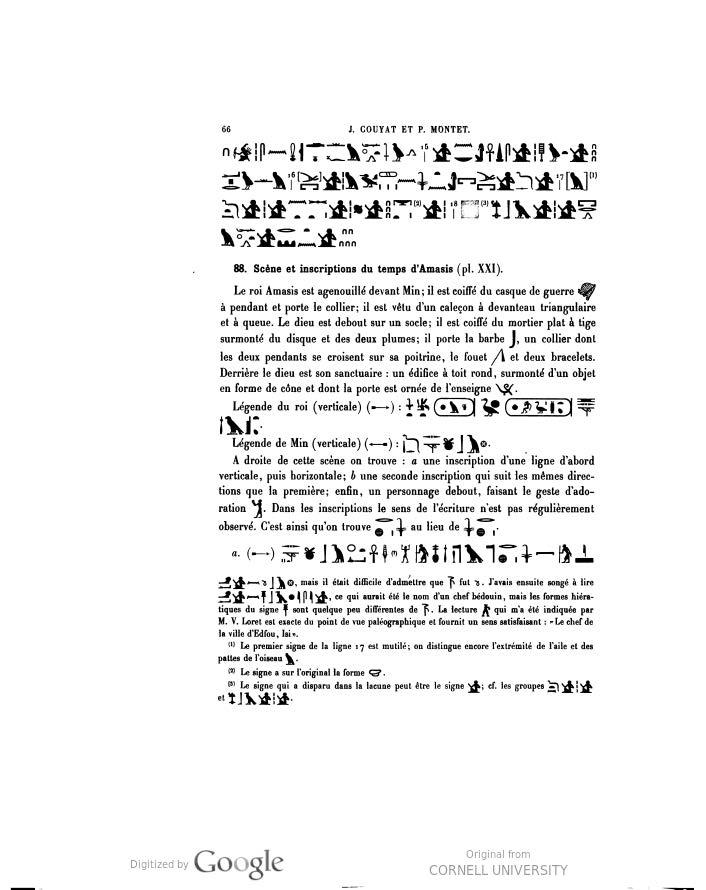circle: (499, 392, 577, 424), (428, 389, 485, 427)
